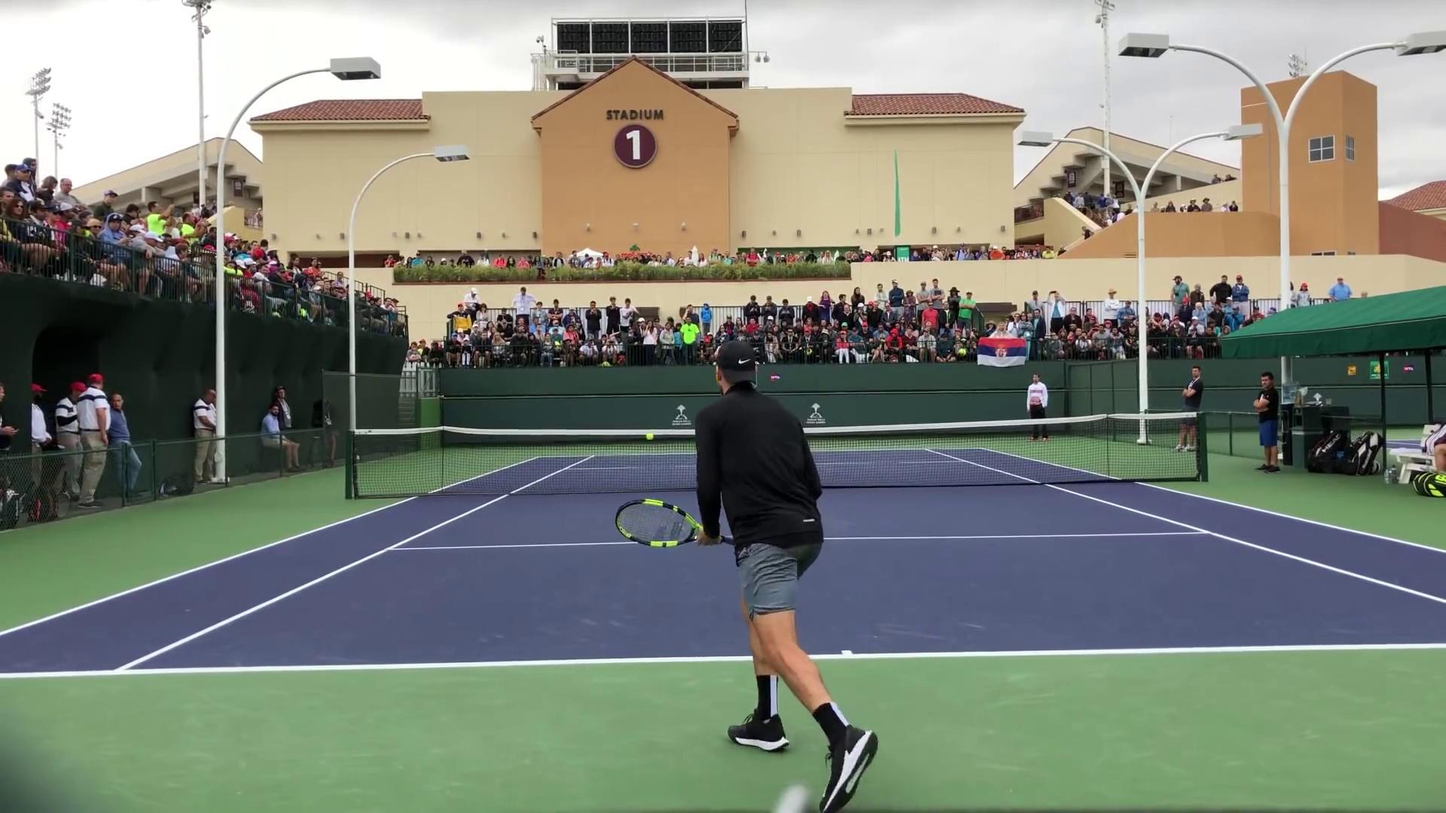ball: (641, 431, 658, 445)
